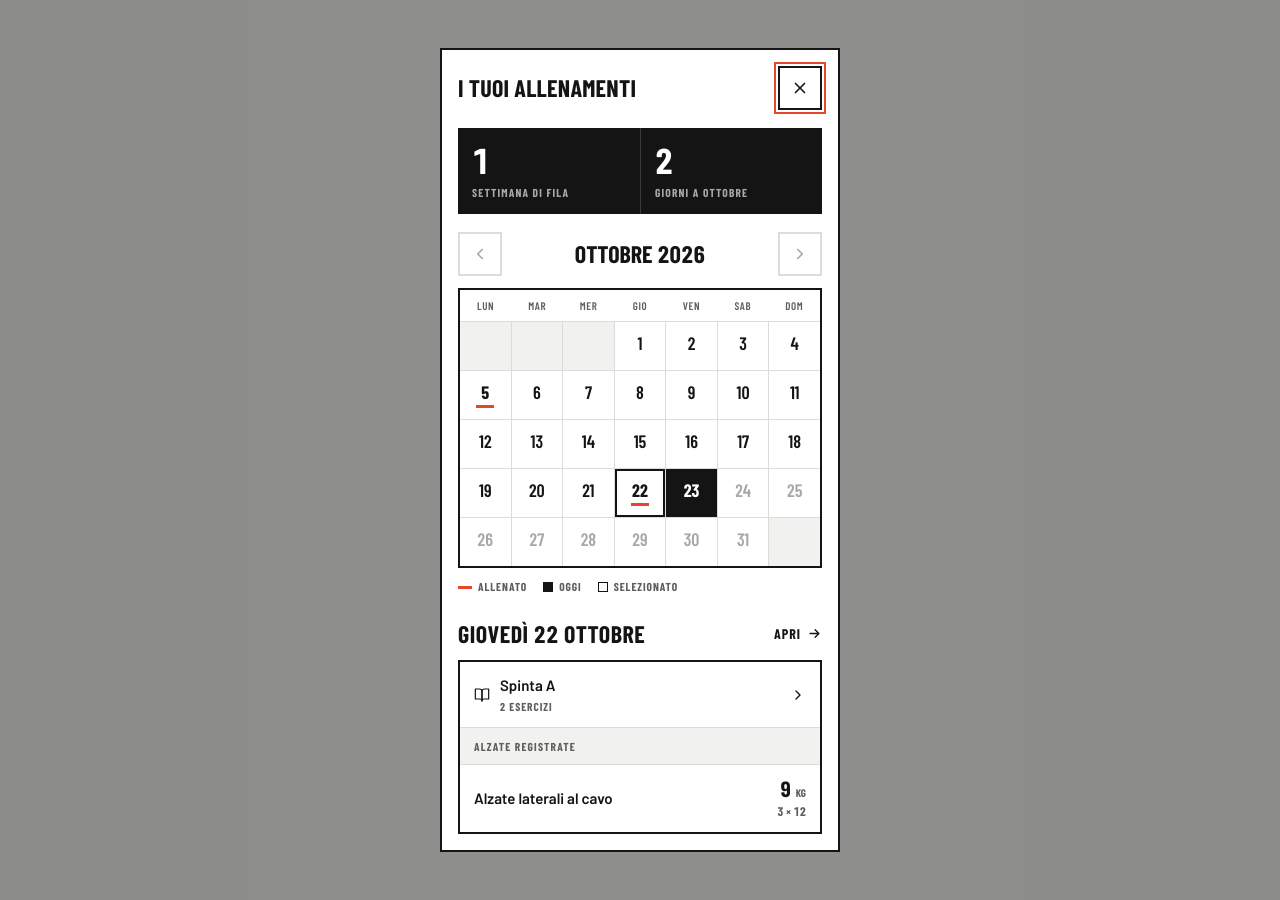
Scenario: il calendario degli allenamenti › la scheda è una riga chiusa; «Apri» mostra i suoi esercizi, «Chiudi» li nasconde
Expected: the text "Spinta A" is shown, [500,676,556,694]
Expected: the text "Panca piana" is not shown
Step 1. Click the button with aria-label "Apri le schede del giorno" → point(798, 634), box [774,618,822,650]
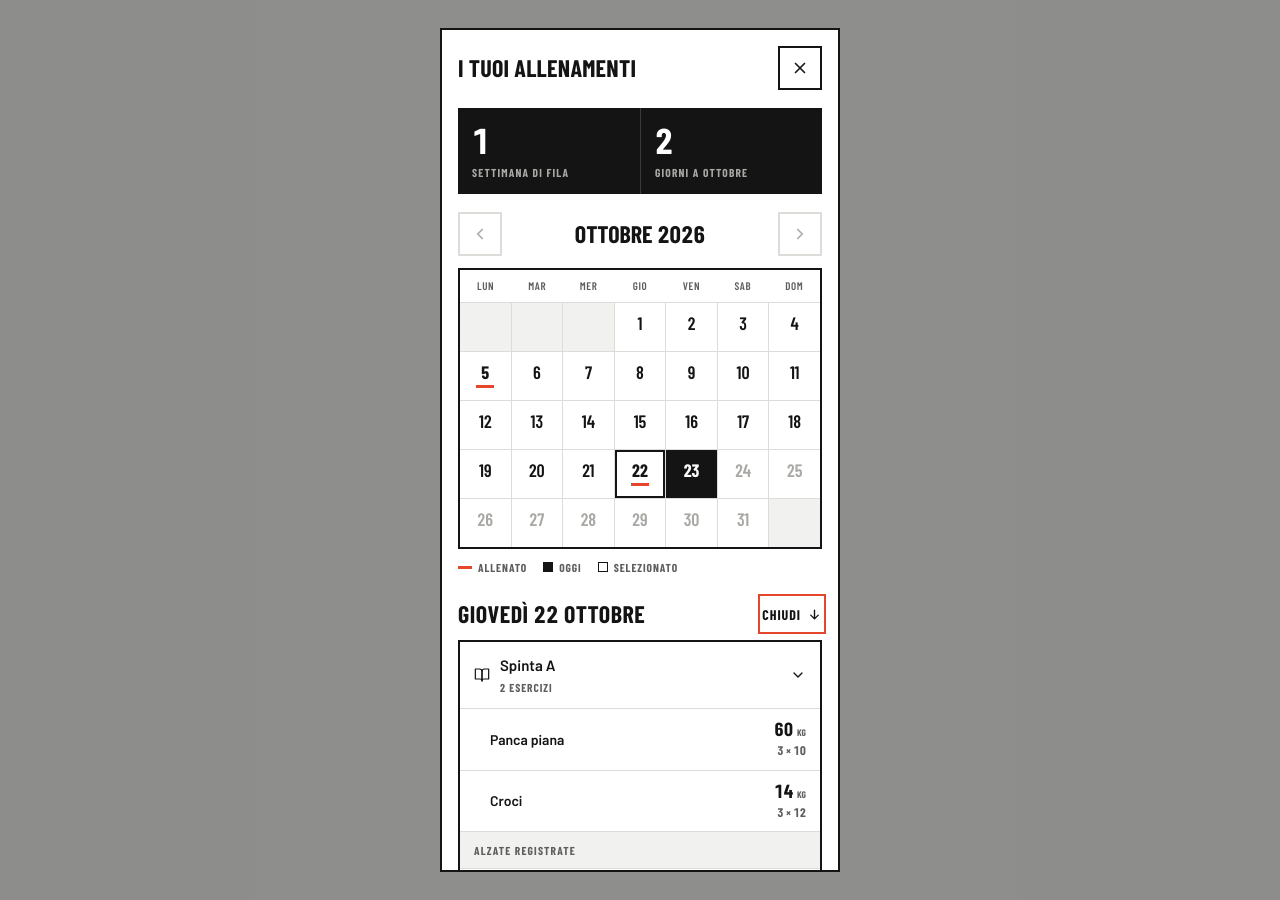
Expected: the text "Panca piana" is shown, [490,729,564,750]
Expected: the text "Croci" is shown, [490,790,522,811]
Step 2. Click the button with aria-label "Chiudi le schede del giorno" → point(792, 614), box [762,598,822,630]
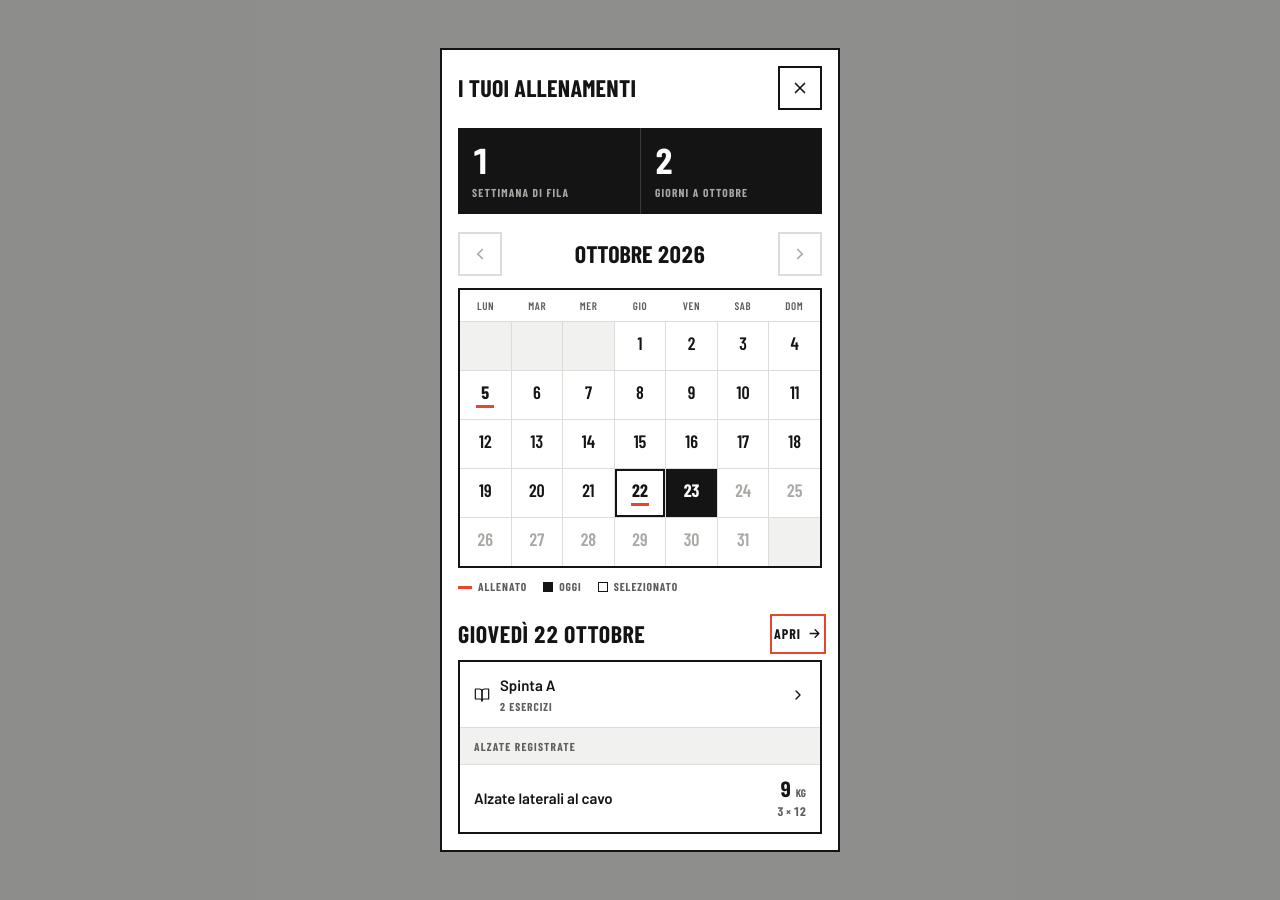
Expected: the text "Panca piana" is gone
